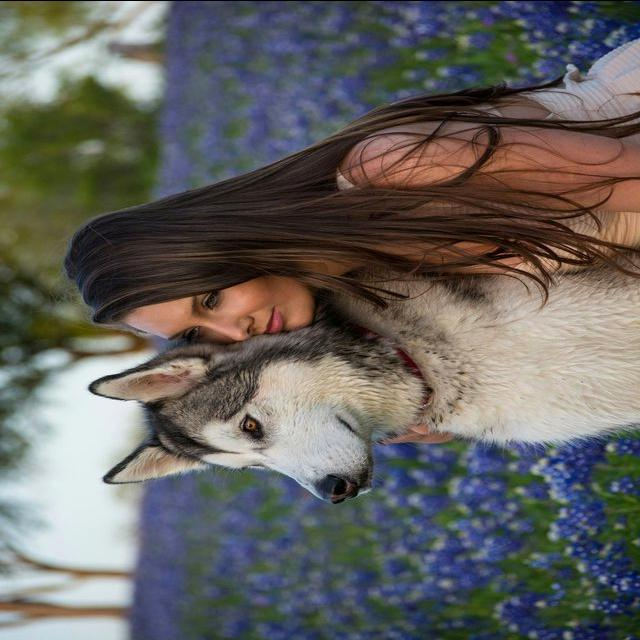husky: (86, 240, 638, 506)
